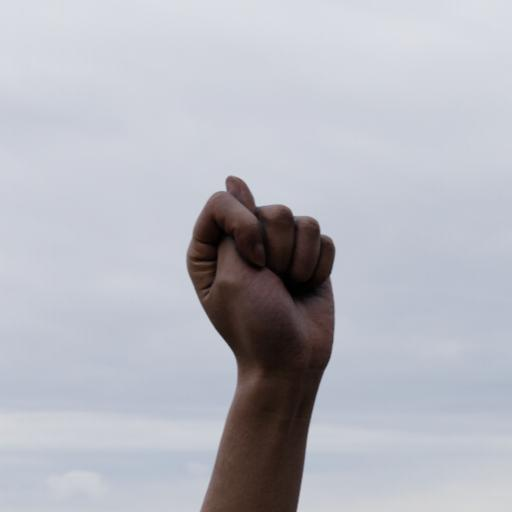T: (148, 150, 358, 371)
